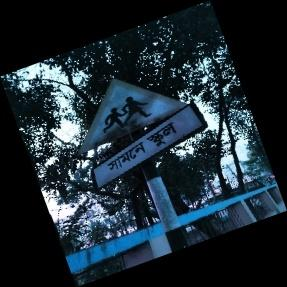School-in-front: (79, 78, 205, 190)
